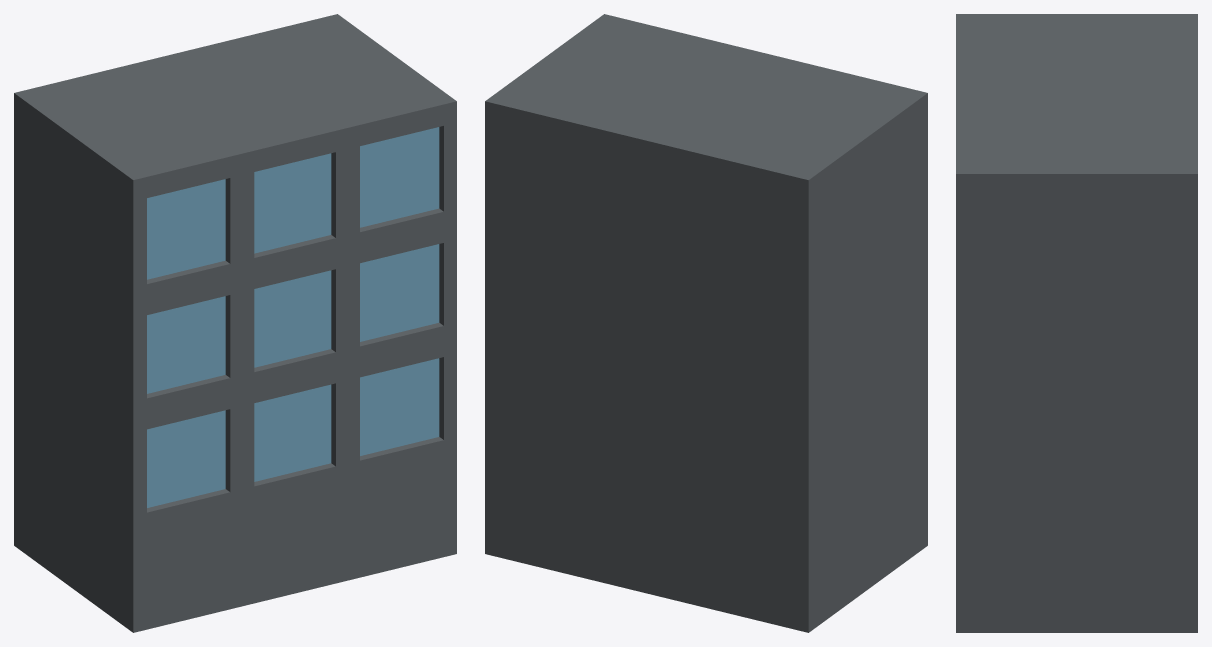
The model's file is BackgroundBuilding_4.fbx.
The picture shows the model from 3 angles, left to right: view 1: azimuth 30°, elevation 25°; view 2: azimuth 150°, elevation 25°; view 3: azimuth 270°, elevation 25°; orthographic projection.
Parts seen in each view (by area): view 1: Building_4; view 2: Building_4; view 3: Building_4.
Part boxes in pixels (left/top/right/bottom): Building_4: left=14, top=14, right=456, bottom=632; Building_4: left=485, top=14, right=927, bottom=632; Building_4: left=956, top=14, right=1197, bottom=632.
Bounding box in the file's own units: 313 × 419 × 200.
